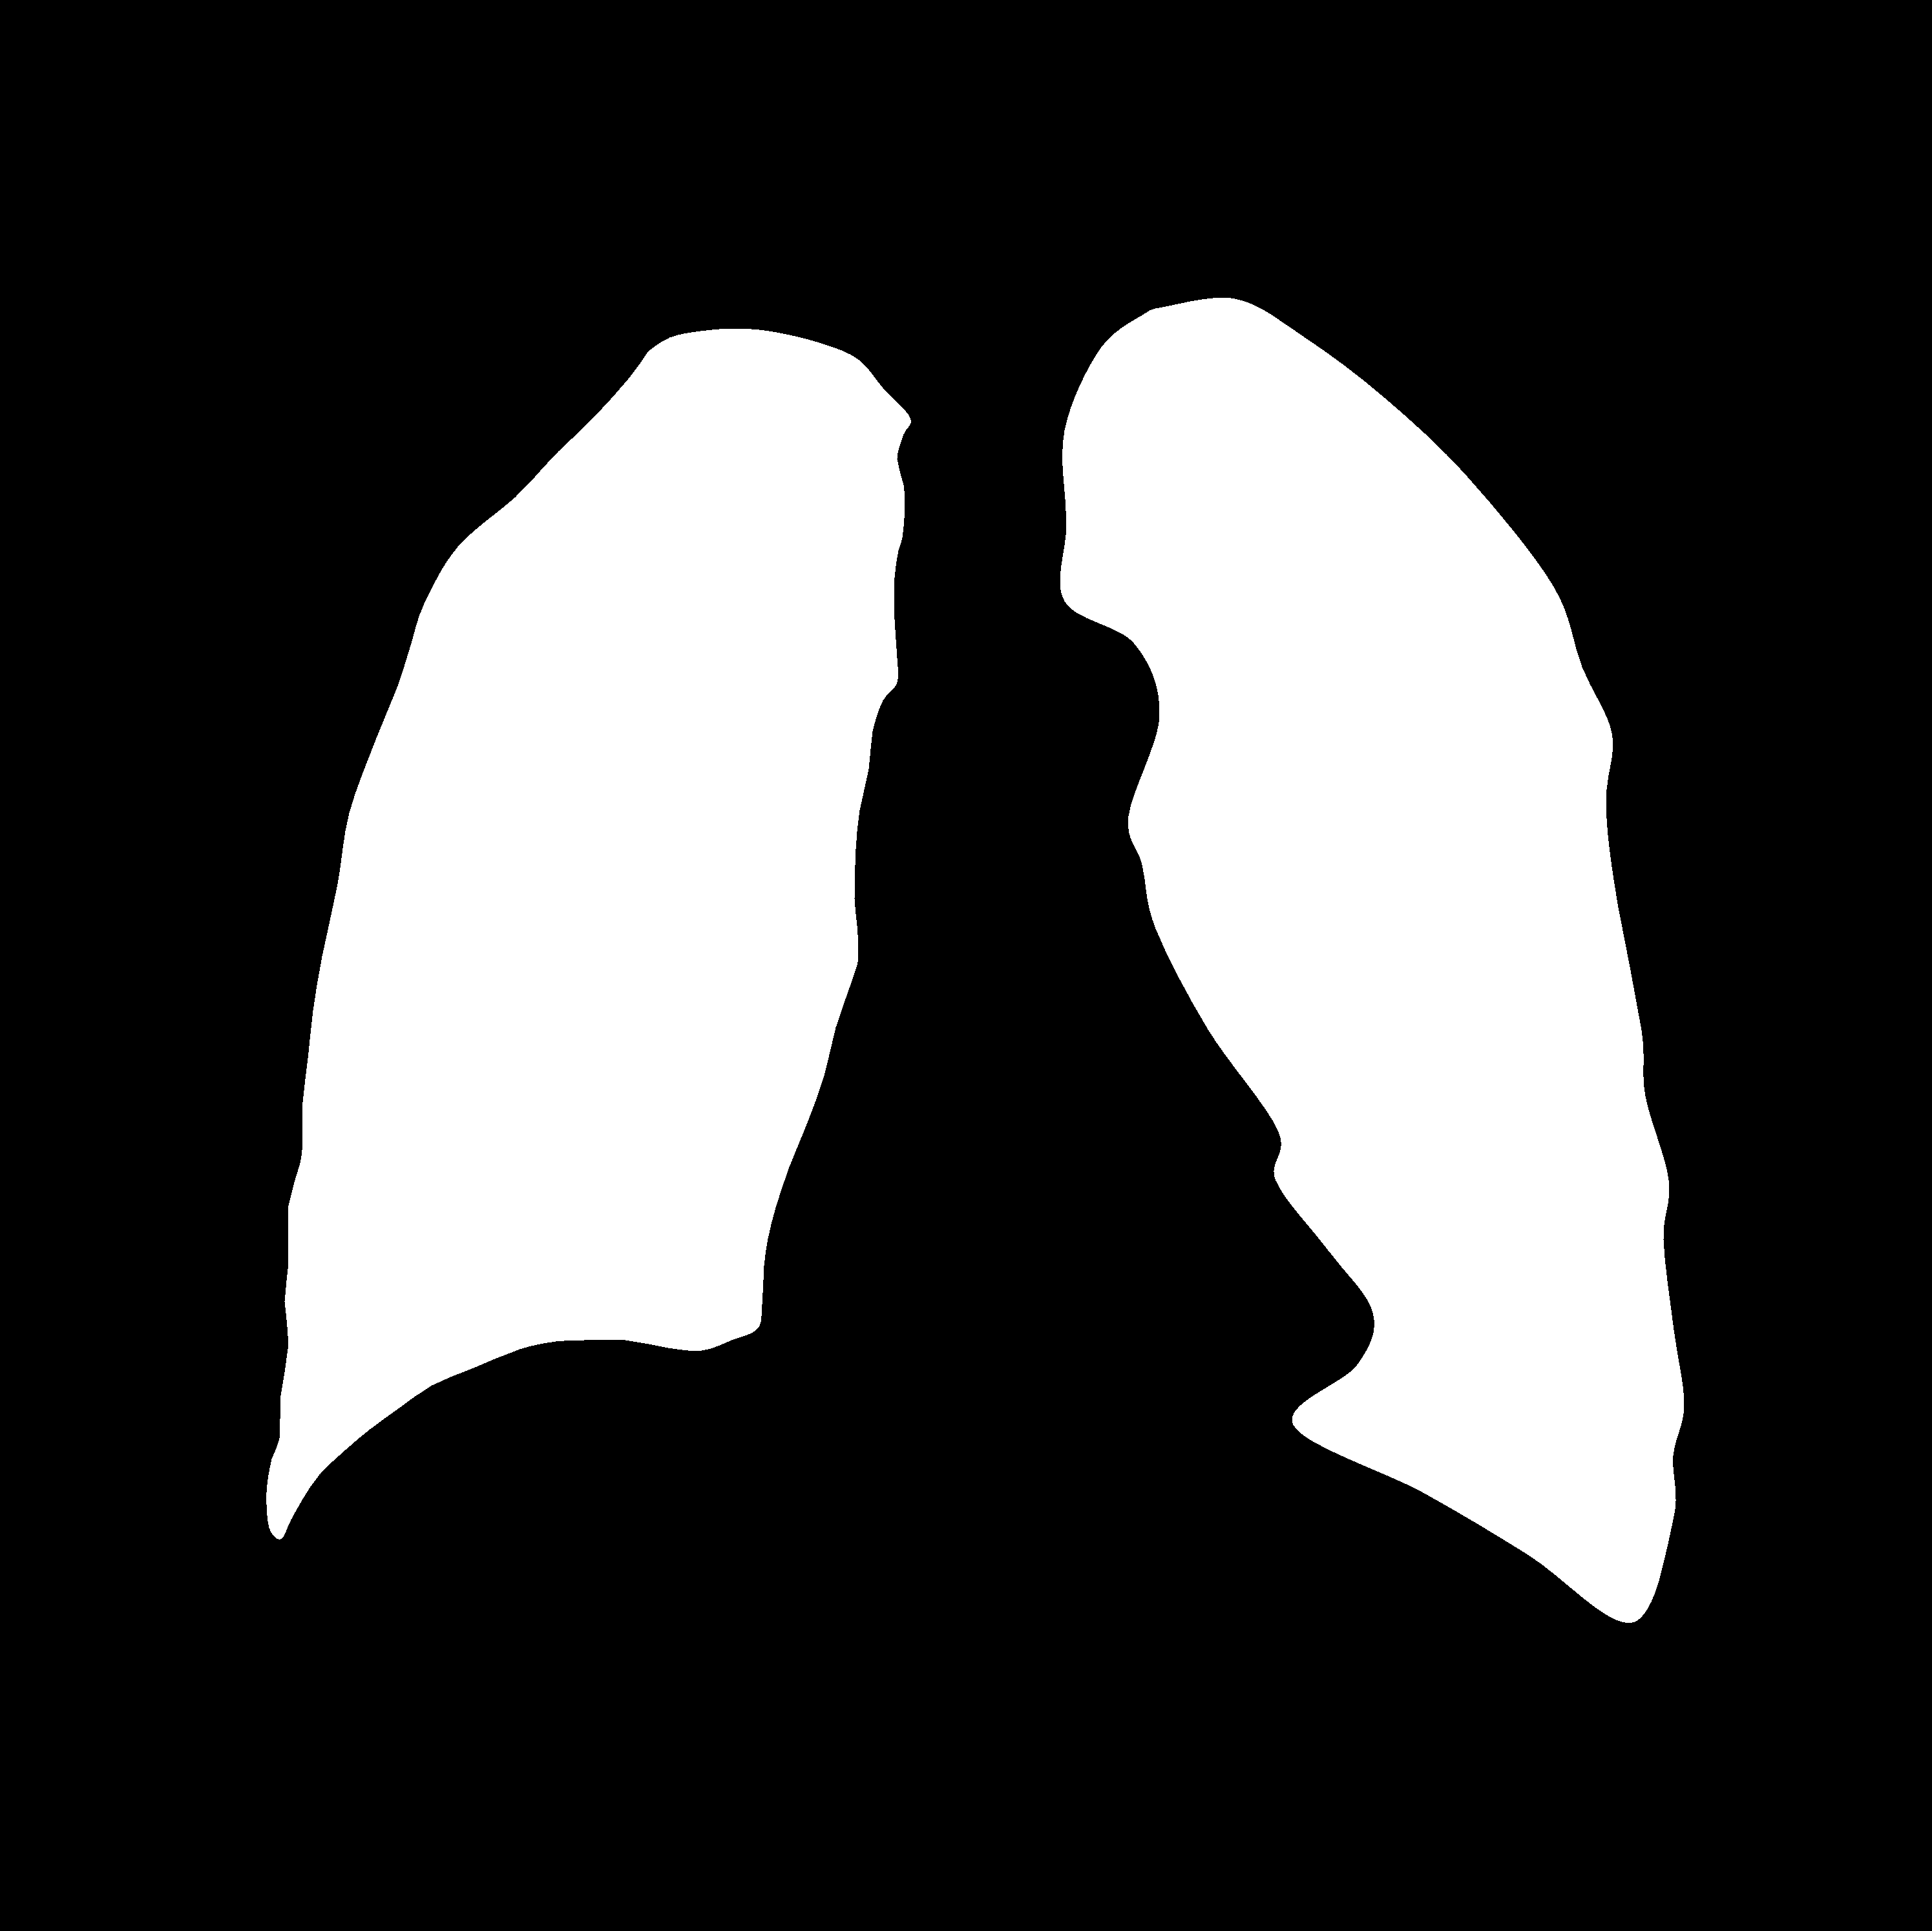heart: (764, 1088, 1414, 1508)
left_lung: (265, 329, 911, 1538)
right_lung: (1060, 297, 1684, 1623)
